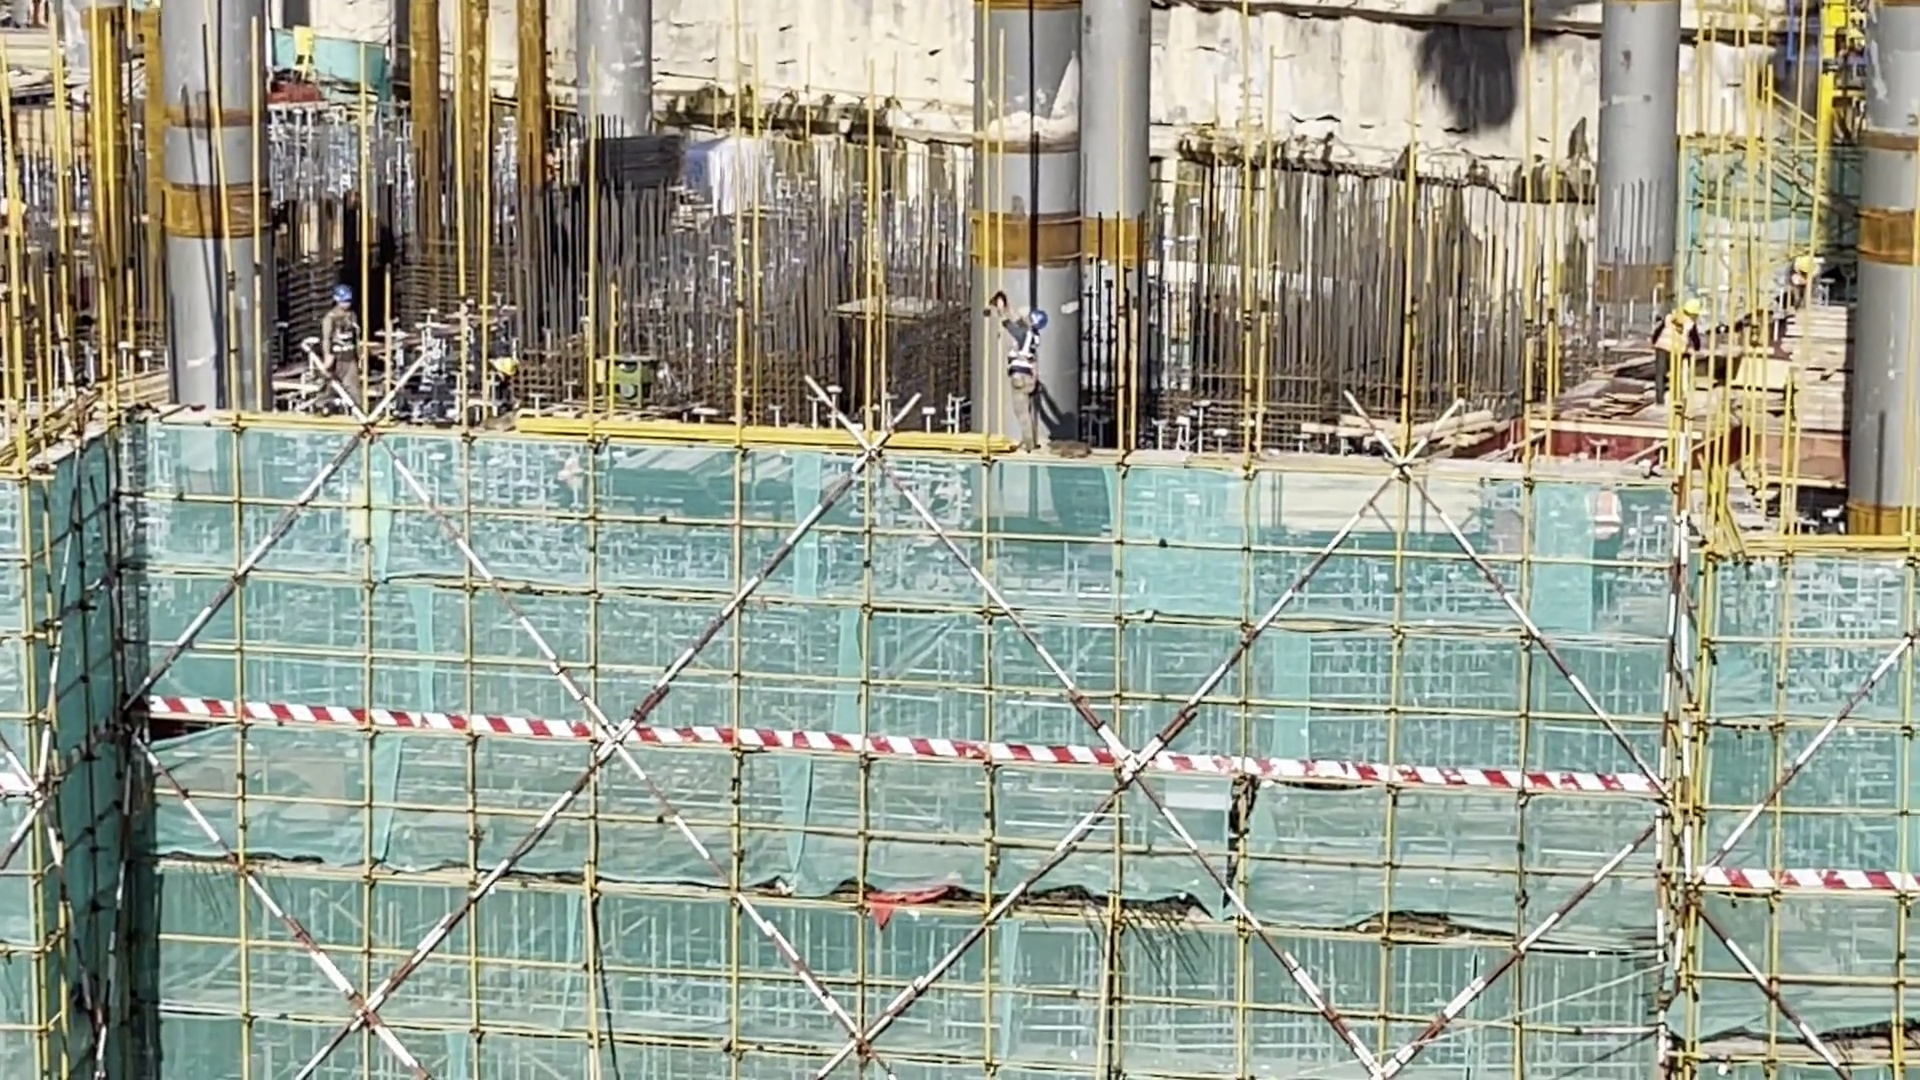board: (1773, 314, 1846, 441)
ebox: (293, 31, 329, 67)
helmet: (1677, 299, 1699, 321), (1029, 301, 1046, 324), (334, 292, 359, 307), (498, 356, 518, 374), (1801, 255, 1819, 269)
person: (999, 295, 1061, 448), (319, 286, 369, 413), (1651, 295, 1684, 400), (479, 351, 528, 416), (1799, 236, 1830, 298)
vest: (324, 314, 369, 376), (1006, 329, 1044, 389), (1648, 322, 1695, 351), (1802, 271, 1825, 282)
